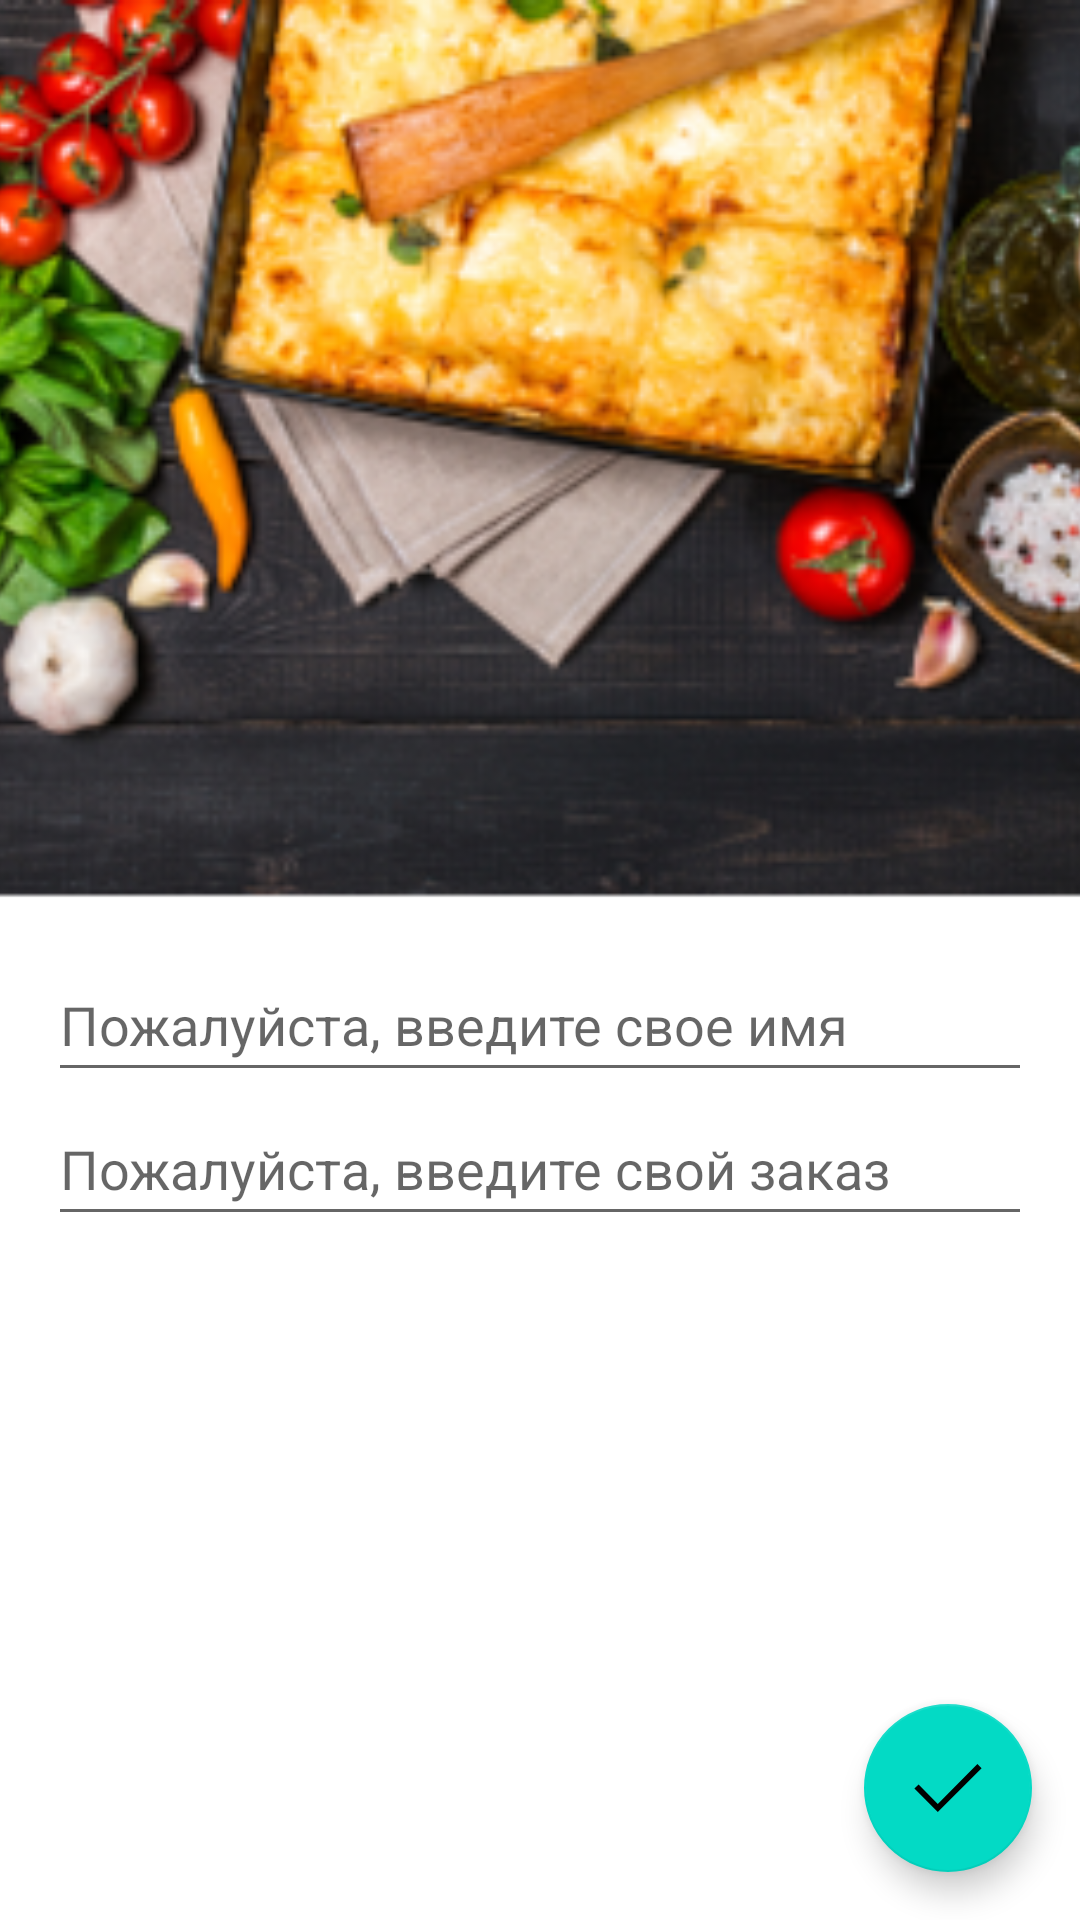

Icons on this 1080 × 1920 Android screen, each with its box as (x1, y1, x2, y2):
checkmark: (864, 1704, 1032, 1872)
